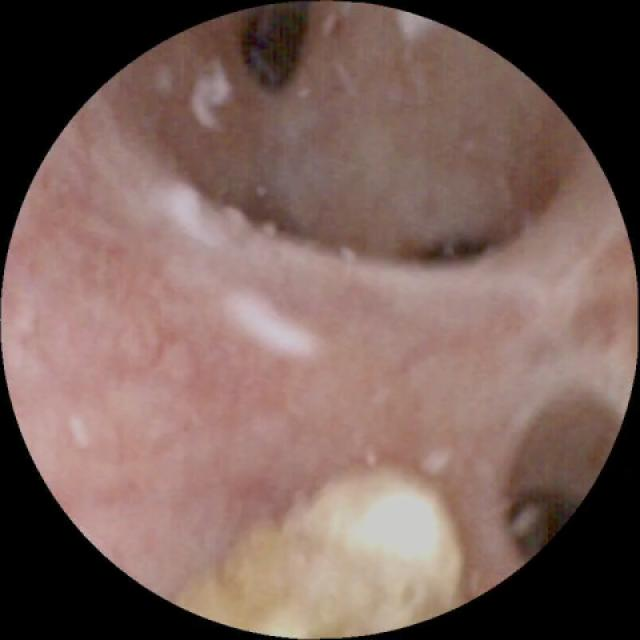stone: (186, 462, 460, 632)
tissue: (7, 12, 628, 594)
